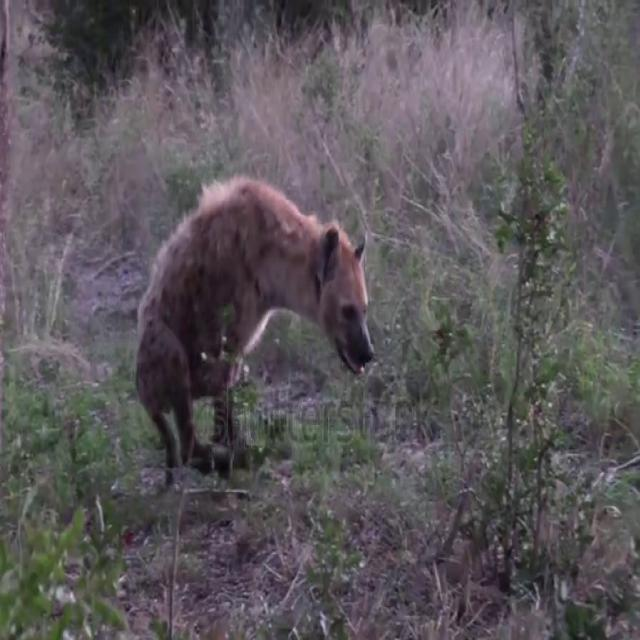normal_animals: (131, 171, 379, 488)
